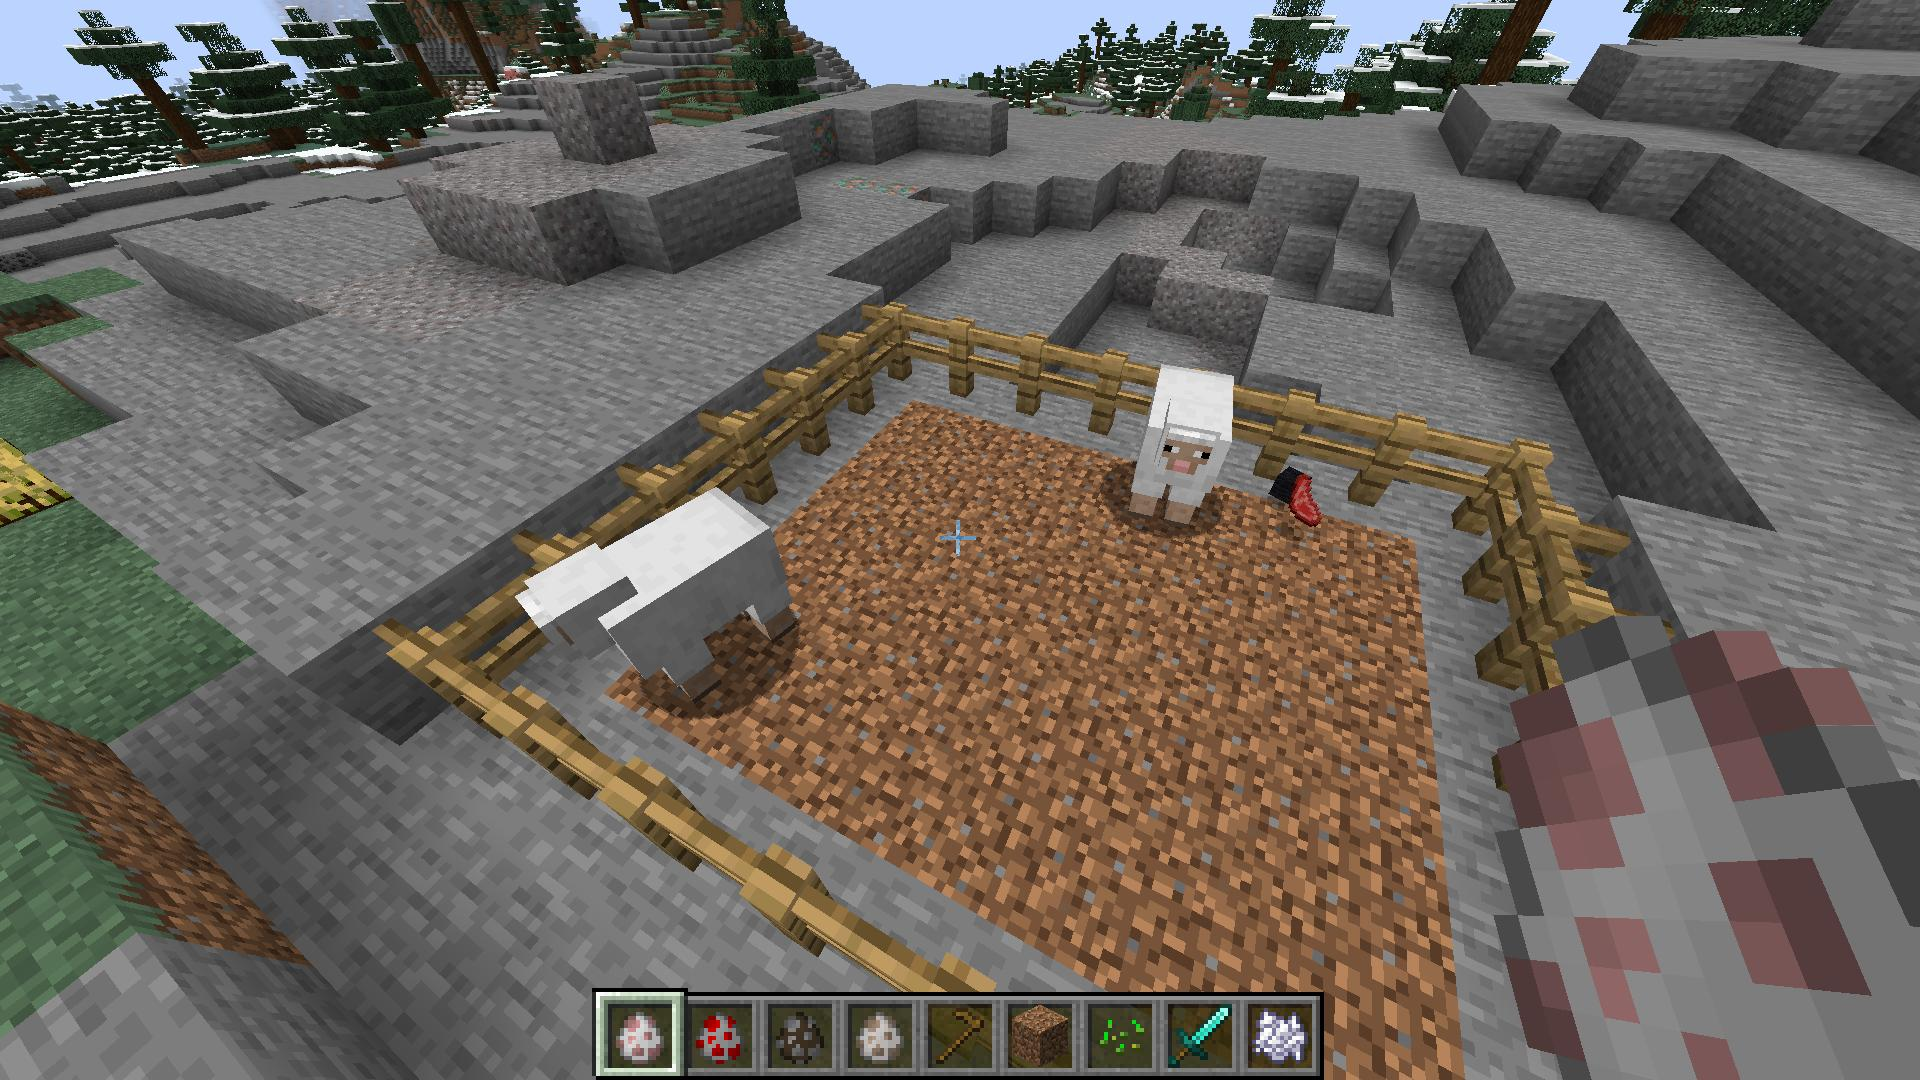sheep: (516, 483, 802, 707), (1121, 360, 1244, 531)
